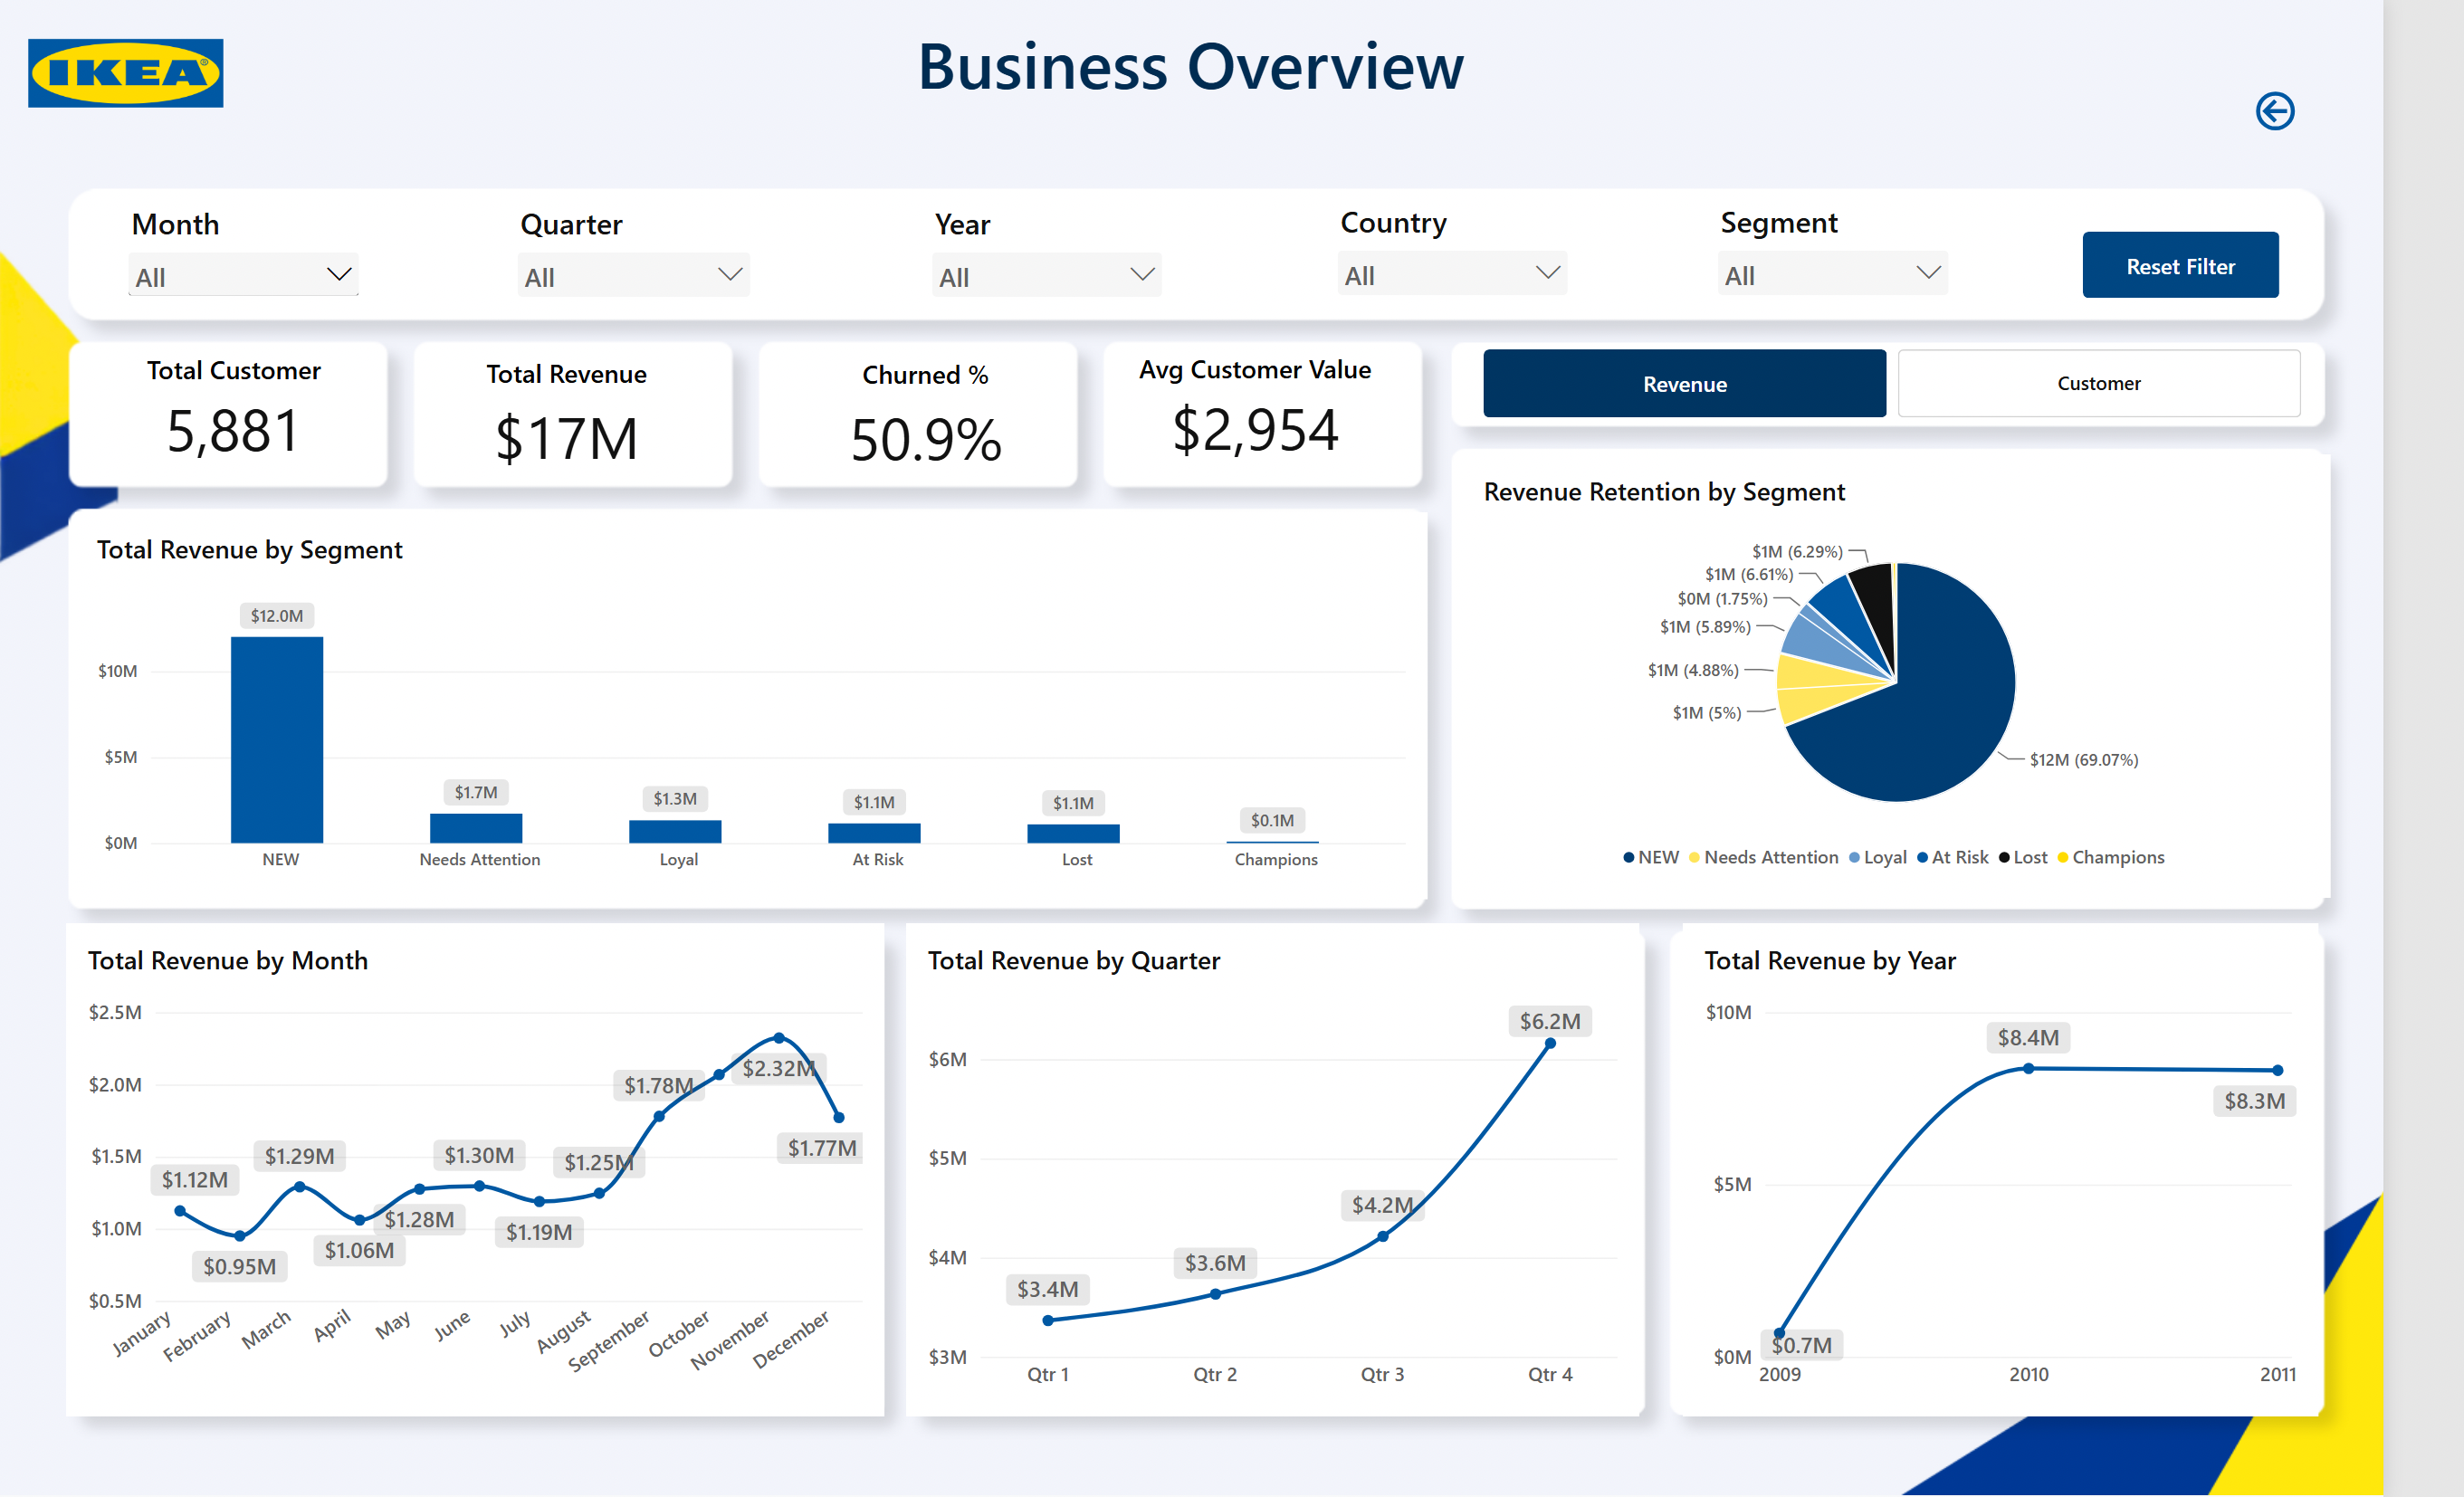

The dashboard page shown, as its layout file describes it:
{"tool":"powerbi","page":{"name":"overview","canvas":[1750,1100],"ordinal":1},"visuals":[{"type":"cardVisual","fields":{"Data":["Sheet1.Total Revenue"]},"box":[316.9,257.7,198.1,95.6],"z":0},{"type":"columnChart","fields":{"Category":["Sheet1.Segment"],"Y":["Sheet1.Total Revenue"]},"box":[55.8,376.1,992.5,283.8],"z":0,"group":"g1"},{"type":"cardVisual","fields":{"Data":["Sheet1.Churned %"]},"box":[576.4,261.2,207.2,88.8],"z":1000},{"type":"lineChart","fields":{"Category":["Sheet1.InvoiceDate.Variation.Date Hierarchy.Month"],"Y":["Sheet1.Total Revenue"]},"box":[48.8,677.3,600.7,362.2],"z":1000,"group":"g1"},{"type":"cardVisual","fields":{"Data":["Sheet1.Avg Customer Value"]},"box":[814.9,256,215.9,88.8],"z":2000},{"type":"lineChart","fields":{"Category":["Sheet1.InvoiceDate.Variation.Date Hierarchy.Quarter"],"Y":["Sheet1.Total Revenue"]},"box":[665.2,677.3,538.1,362.2],"z":2000,"group":"g1"},{"type":"cardVisual","fields":{"Data":["Sheet1.Total Customer"]},"box":[81.8,257.7,180.7,86.9],"z":3000},{"type":"lineChart","fields":{"Category":["Sheet1.InvoiceDate.Variation.Date Hierarchy.Year"],"Y":["Sheet1.Total Revenue"]},"box":[1234.6,677.3,466.7,362.2],"z":3000,"group":"g1"},{"type":"slicer","fields":{"Values":["Sheet1.InvoiceDate.Variation.Date Hierarchy.Month"]},"box":[89.1,149.5,181.1,67.9],"z":4000},{"type":"pieChart","title":"Revenue Retention by Segment","fields":{"Category":["Sheet1.Segment"],"Series":["Sheet1.IsChurned"],"Y":["Sheet1.Total Revenue"]},"box":[1073.4,333.3,637.3,325.6],"z":4000,"group":"g1"},{"type":"slicer","fields":{"Values":["Sheet1.InvoiceDate.Variation.Date Hierarchy.Quarter"]},"box":[374.4,149.4,182.5,74.7],"z":5000},{"type":"slicer","fields":{"Values":["Sheet1.InvoiceDate.Variation.Date Hierarchy.Year"]},"box":[679.2,149.5,180.7,74.7],"z":6000},{"type":"slicer","fields":{"Values":["Sheet1.Country"]},"box":[976.9,147.7,180.7,69.5],"z":7000},{"type":"slicer","fields":{"Values":["Sheet1.Segment"]},"box":[1255.8,147.7,181.1,69.7],"z":8000},{"type":"group","id":"g1","title":"Revenue","box":[48.8,333.3,1661.9,706.2],"z":10000},{"type":"bookmarkNavigator","box":[1089.3,256.4,600,50],"z":11000},{"type":"image","box":[0,0,185.9,107.7],"z":12000},{"type":"textbox","box":[662.1,13.9,425.8,69.5],"z":13000},{"type":"actionButton","box":[1650.9,53.9,38.2,53.9],"z":14000},{"type":"actionButton","box":[1529.2,170.3,144.2,48.7],"z":15000}]}

Visuals, with their boxes on the page's 1750x1100 design canvas (x1, y1, x2, y2). These are canvas units, not pixel positions in the 2464x1497 screenshot, which may show the page scaled, cropped or inside an application window:
cardVisual - Sheet1.Total Revenue: locate(317, 258, 515, 353)
columnChart - Sheet1.Segment x Sheet1.Total Revenue: locate(56, 376, 1048, 660)
cardVisual - Sheet1.Churned %: locate(576, 261, 784, 350)
lineChart - Sheet1.InvoiceDate.Variation.Date Hierarchy.Month x Sheet1.Total Revenue: locate(49, 677, 650, 1040)
cardVisual - Sheet1.Avg Customer Value: locate(815, 256, 1031, 345)
lineChart - Sheet1.InvoiceDate.Variation.Date Hierarchy.Quarter x Sheet1.Total Revenue: locate(665, 677, 1203, 1040)
cardVisual - Sheet1.Total Customer: locate(82, 258, 262, 345)
lineChart - Sheet1.InvoiceDate.Variation.Date Hierarchy.Year x Sheet1.Total Revenue: locate(1235, 677, 1701, 1040)
slicer - Sheet1.InvoiceDate.Variation.Date Hierarchy.Month: locate(89, 150, 270, 217)
"Revenue Retention by Segment" pieChart: locate(1073, 333, 1711, 659)
slicer - Sheet1.InvoiceDate.Variation.Date Hierarchy.Quarter: locate(374, 149, 557, 224)
slicer - Sheet1.InvoiceDate.Variation.Date Hierarchy.Year: locate(679, 150, 860, 224)
slicer - Sheet1.Country: locate(977, 148, 1158, 217)
slicer - Sheet1.Segment: locate(1256, 148, 1437, 217)
"Revenue" group: locate(49, 333, 1711, 1040)
bookmarkNavigator: locate(1089, 256, 1689, 306)
image: locate(0, 0, 186, 108)
textbox: locate(662, 14, 1088, 83)
actionButton: locate(1651, 54, 1689, 108)
actionButton: locate(1529, 170, 1673, 219)
